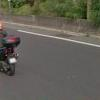Motorcycle: (2, 22, 23, 85)
